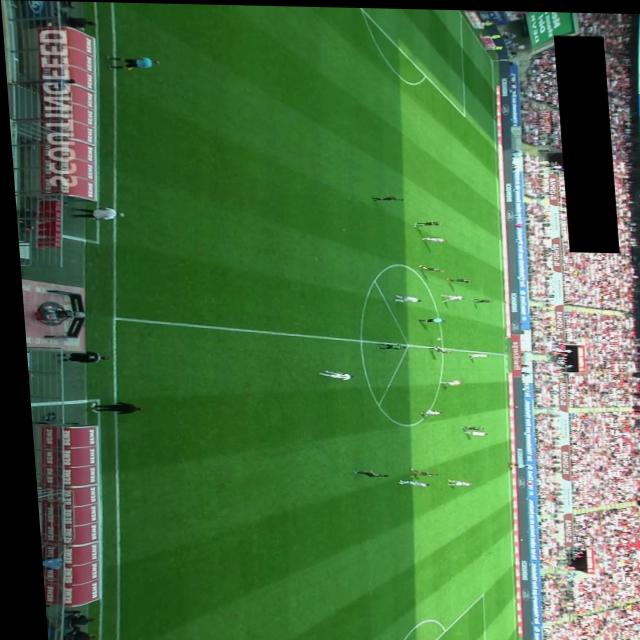player: (312, 369, 349, 380), (401, 466, 431, 476), (345, 469, 381, 476), (389, 292, 417, 301), (422, 342, 446, 352), (371, 341, 401, 349), (435, 292, 461, 301), (389, 478, 422, 485), (414, 263, 440, 271), (368, 194, 400, 200), (441, 275, 467, 282), (439, 478, 464, 485), (409, 219, 438, 225), (434, 378, 457, 385), (455, 428, 481, 434), (413, 408, 436, 414), (462, 352, 484, 358), (417, 236, 443, 241), (454, 424, 478, 428), (467, 297, 487, 301)
referee: (105, 55, 159, 70), (499, 460, 524, 467), (413, 315, 441, 321)
